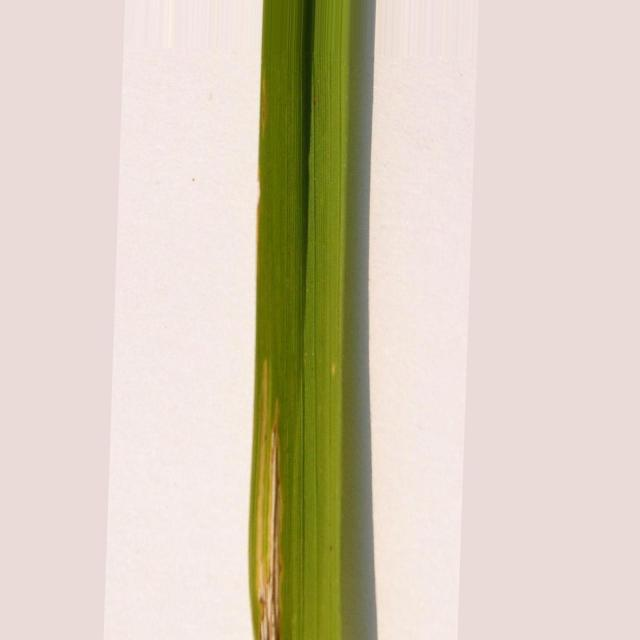Bacterial_Leaf_Blight: (252, 360, 282, 640)
